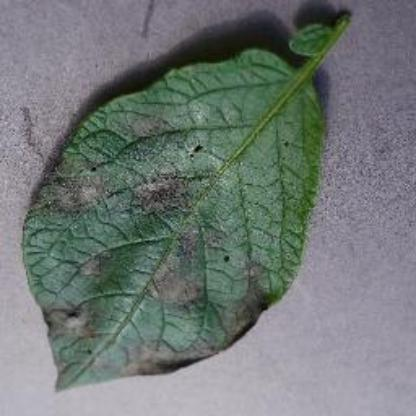Late-Blight: (22, 7, 362, 395)
